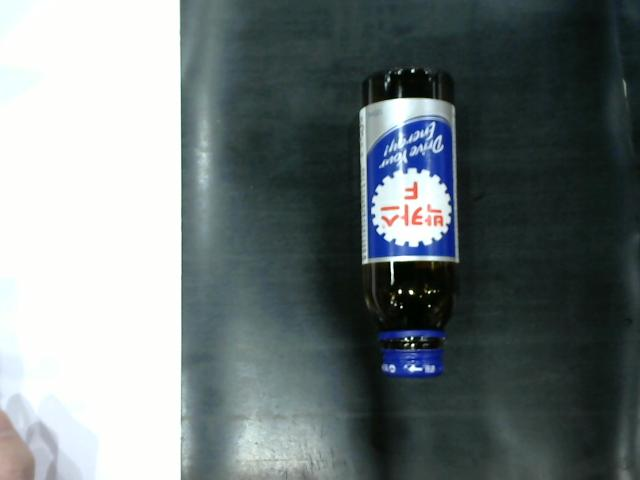glass: (354, 67, 463, 385)
